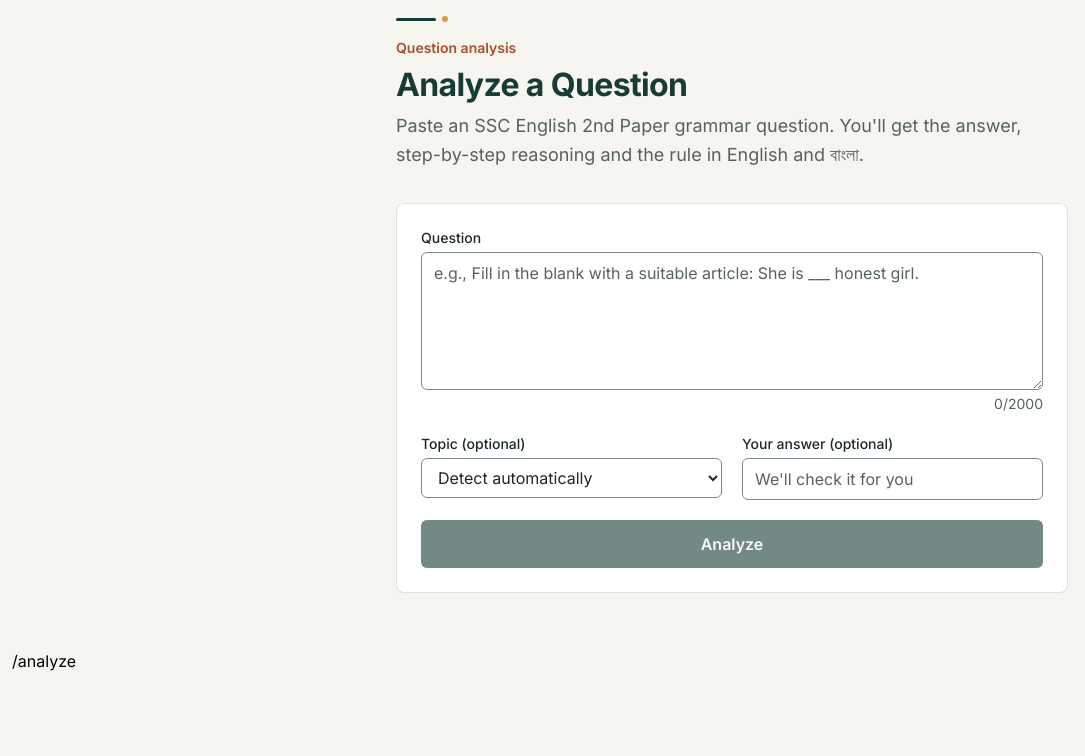
Test: AnalyzePage › shows the server message when the AI is unavailable
This screenshot has width=1085, height=756.
Type "She is ___ honest girl." into the text box labelled "Question".
click(732, 321); type("She is ___ honest girl.")  # box [421,252,1043,390]
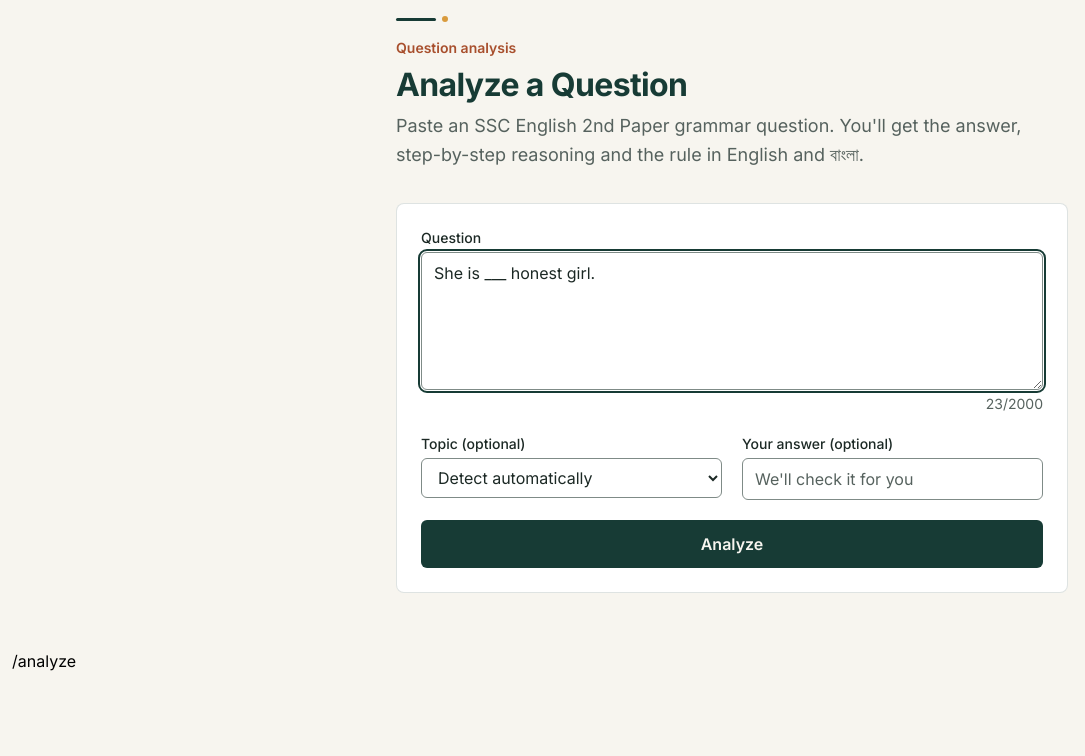
Click the button "Analyze".
click(732, 544)  # box [421,520,1043,568]
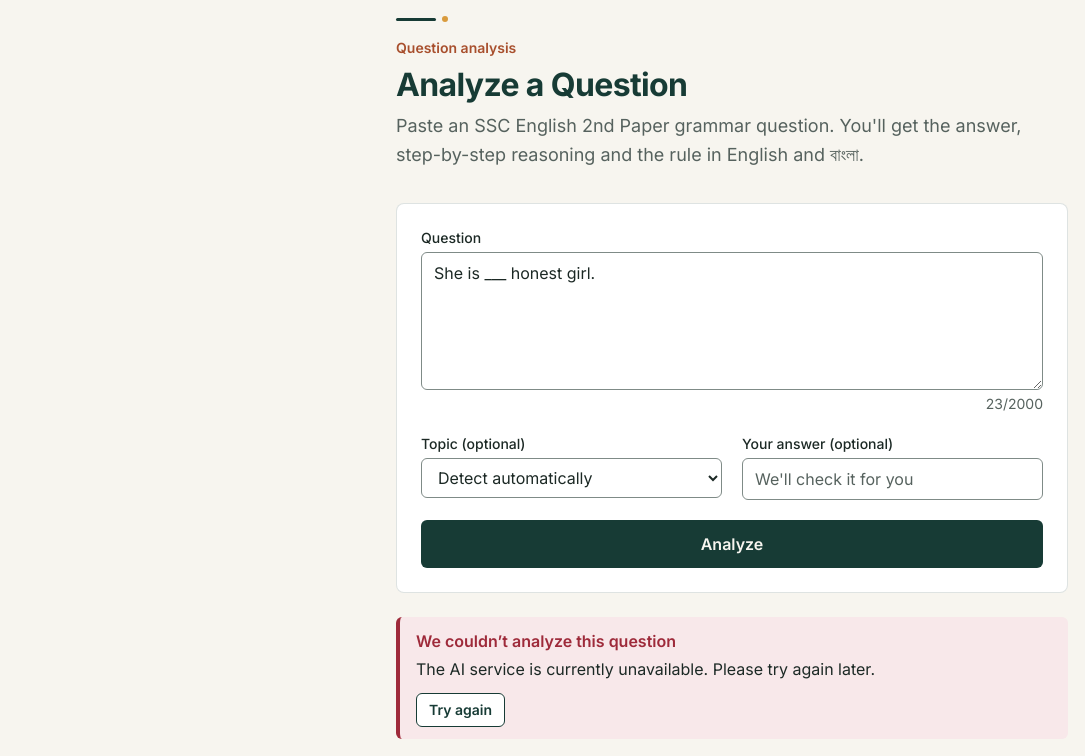
Expected: the message shows "The AI service is currently unavailable. Please try again later.", [416,659,875,679]
